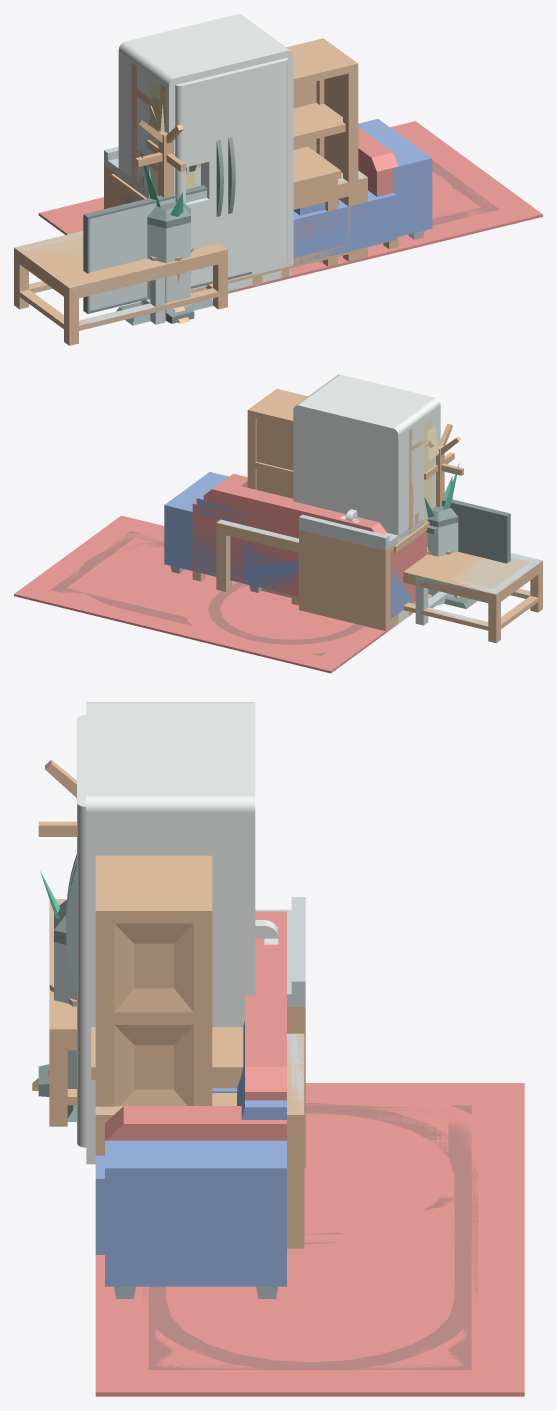
The model's file is office-furniture.glb.
3 renders of one model, top to bottom at view 1: azimuth 30°, elevation 25°; view 2: azimuth 150°, elevation 25°; view 3: azimuth 270°, elevation 25°, orthographic. The views are drawn at different scales.
Parts seen in each view (by area): view 1: kitchenFridgeLarge(Clone), doorRight, tableCoffee(Clone), rugRectangle(Clone), loungeDesignSofa(Clone), bookcaseClosedWide(Clone), doorLeft, televisionModern(Clone), trashcan(Clone), tableCoffeeGlassSquare(Clone), rugRounded(Clone), desk(Clone) (+9 smaller); view 2: kitchenFridgeLarge(Clone), rugRectangle(Clone), kitchenCabinet(Clone), loungeSofa(Clone), rugRound(Clone), tableCoffee(Clone), rugRounded(Clone), bookcaseClosedWide(Clone), loungeDesignSofa(Clone), tableCoffeeGlassSquare(Clone), televisionModern(Clone), loungeDesignChair(Clone) (+8 smaller); view 3: rugRounded(Clone), kitchenFridgeLarge(Clone), rugRectangle(Clone), bookcaseClosedWide(Clone), loungeDesignSofa(Clone), rugRound(Clone), loungeSofa(Clone), doorRight, table(Clone), tableCoffee(Clone), kitchenCabinet(Clone), trashcan(Clone) (+5 smaller).
Boxes of the visible parts, box(x1,y1,x2,y2) form: kitchenFridgeLarge(Clone): box(118, 14, 293, 292); doorRight: box(222, 57, 287, 277); tableCoffee(Clone): box(14, 231, 227, 345); rugRectangle(Clone): box(38, 121, 542, 293); loungeDesignSofa(Clone): box(293, 119, 432, 264); bookcaseClosedWide(Clone): box(131, 38, 358, 261); doorLeft: box(175, 73, 224, 286); televisionModern(Clone): box(83, 185, 251, 325); trashcan(Clone): box(141, 195, 194, 323); tableCoffeeGlassSquare(Clone): box(15, 231, 165, 329); rugRounded(Clone): box(276, 146, 495, 281); desk(Clone): box(111, 146, 341, 266); kitchenFridgeLarge(Clone): box(293, 374, 440, 623); rugRectangle(Clone): box(14, 515, 385, 673); kitchenCabinet(Clone): box(299, 514, 424, 632); loungeSofa(Clone): box(192, 473, 378, 596); rugRound(Clone): box(185, 577, 385, 654); tableCoffee(Clone): box(403, 551, 542, 643); rugRounded(Clone): box(53, 532, 354, 650); bookcaseClosedWide(Clone): box(247, 389, 424, 615); loungeDesignSofa(Clone): box(164, 472, 275, 581); tableCoffeeGlassSquare(Clone): box(415, 553, 542, 630); televisionModern(Clone): box(442, 497, 510, 608); loungeDesignChair(Clone): box(243, 540, 414, 618); rugRounded(Clone): box(95, 1112, 524, 1391); kitchenFridgeLarge(Clone): box(86, 702, 255, 1164); rugRectangle(Clone): box(95, 1083, 524, 1396); bookcaseClosedWide(Clone): box(95, 855, 212, 1106); loungeDesignSofa(Clone): box(95, 1031, 286, 1298); rugRound(Clone): box(287, 1083, 524, 1264); loungeSofa(Clone): box(105, 911, 286, 1140); doorRight: box(66, 753, 86, 1147); table(Clone): box(95, 1033, 304, 1248); tableCoffee(Clone): box(49, 899, 76, 1126); kitchenCabinet(Clone): box(255, 897, 305, 1167); trashcan(Clone): box(38, 900, 76, 1096).
Size of the model in its own units: 2.03 by 0.92 by 1.06.
